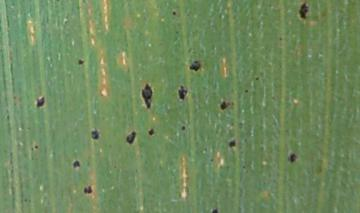tarspot: (140, 82, 154, 110), (298, 1, 310, 20), (125, 129, 137, 146), (177, 84, 188, 102), (34, 95, 46, 109), (90, 126, 101, 141), (188, 60, 201, 72), (219, 99, 232, 111), (287, 152, 299, 164), (82, 184, 93, 195), (227, 138, 237, 149), (72, 159, 83, 169), (147, 127, 156, 137), (77, 57, 86, 66), (170, 9, 178, 18), (32, 143, 41, 151), (210, 207, 218, 213), (241, 163, 247, 171), (254, 75, 260, 82), (180, 124, 186, 131), (243, 88, 249, 94), (278, 35, 283, 42), (209, 157, 214, 163)
